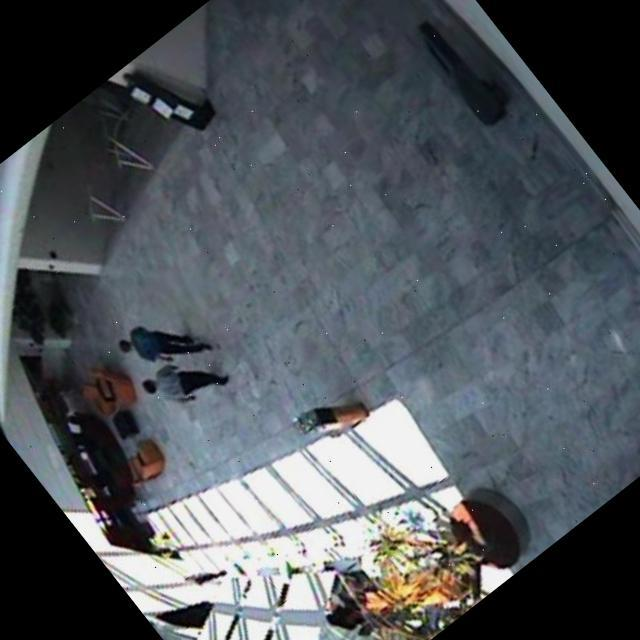person: (112, 293, 218, 399), (136, 332, 237, 429)
